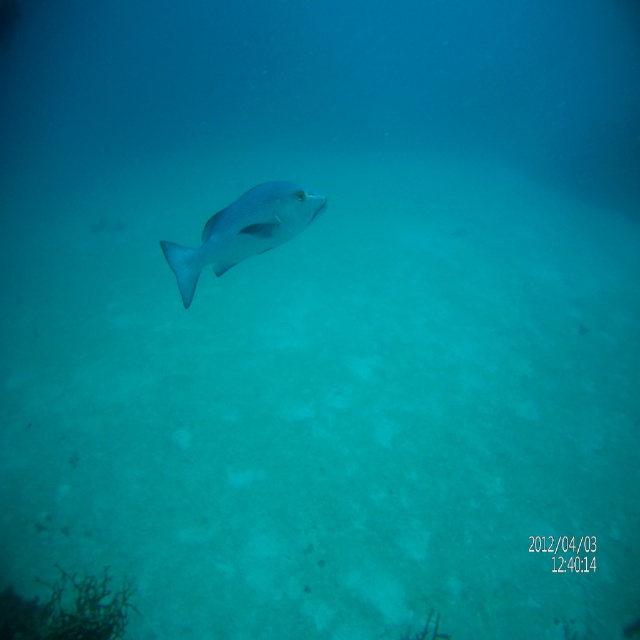Fish: (159, 181, 329, 310)
